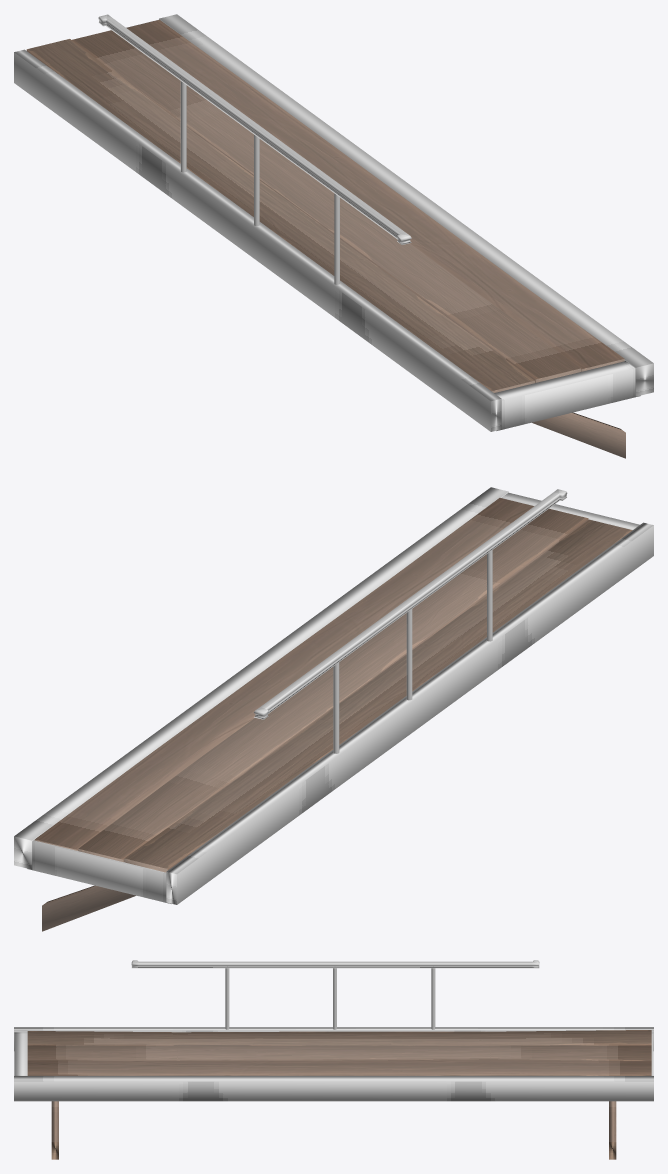
File: SM_WalkwayChurch.fbx
The picture shows the model from 3 angles, top to bottom: view 1: azimuth 30°, elevation 25°; view 2: azimuth 150°, elevation 25°; view 3: azimuth 270°, elevation 25°; orthographic projection. The views are drawn at different scales.
Parts seen in each view (by area): view 1: SM_WalkwayCurch; view 2: SM_WalkwayCurch; view 3: SM_WalkwayCurch.
Boxes of the visible parts, <box> form: SM_WalkwayCurch: <box>14,14,653,458</box>; SM_WalkwayCurch: <box>14,487,653,931</box>; SM_WalkwayCurch: <box>14,960,653,1159</box>.
Bounding box in the file's own units: 201 × 1010 × 253.
